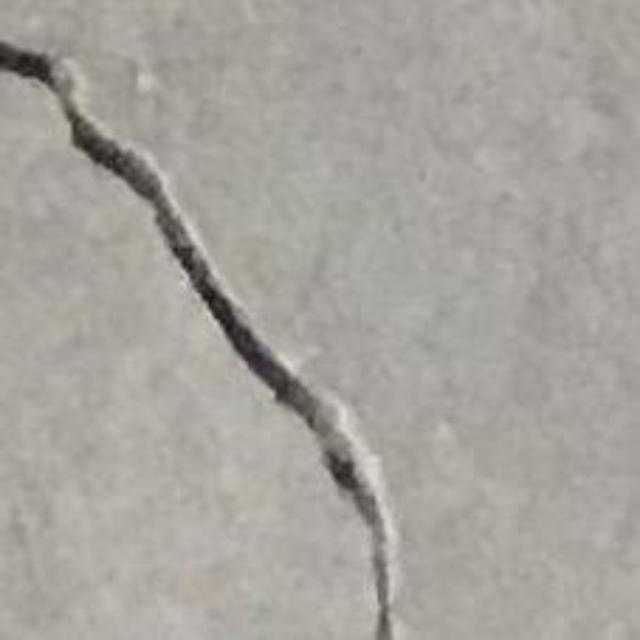crack: (0, 40, 400, 639)
